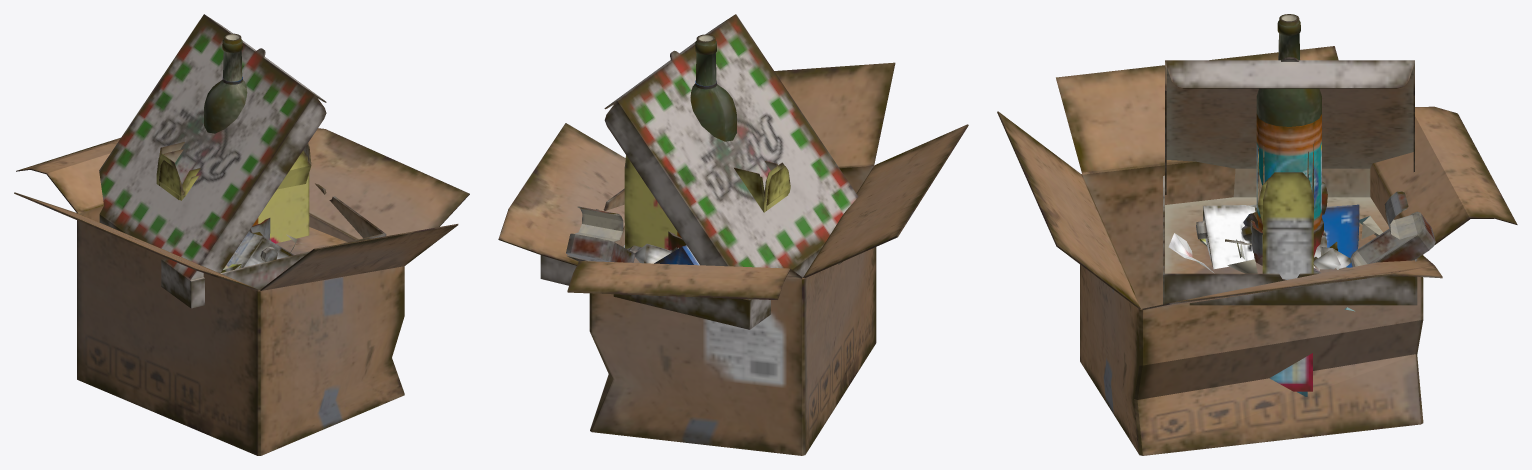
File: garbage_objs.glb
The picture shows the model from 3 angles, left to right: view 1: azimuth 30°, elevation 25°; view 2: azimuth 150°, elevation 25°; view 3: azimuth 270°, elevation 25°; orthographic projection. The views are drawn at different scales.
Parts seen in each view (by area): view 1: BOX, PIZZA_BOX, MUSELY, BOTTLE.001, CEREALS, MILK; view 2: BOX, PIZZA_BOX, MUSELY, BOTTLE.001, CEREALS, MILK, PAPER-4; view 3: BOX, PIZZA_BOX, MUSELY, MILK, BOTTLE, BOTTLE.001, PAPER-4, PAPER_3, CAN.
Boxes of the visible parts, box(x1,y1,x2,y2) form: BOX: box(14, 128, 469, 455); PIZZA_BOX: box(99, 14, 386, 308); MUSELY: box(156, 142, 309, 243); BOTTLE.001: box(204, 33, 247, 133); CEREALS: box(159, 143, 311, 200); MILK: box(226, 232, 294, 269); BOX: box(498, 62, 968, 455); PIZZA_BOX: box(540, 14, 858, 329); MUSELY: box(624, 155, 788, 249); BOTTLE.001: box(690, 34, 736, 141); CEREALS: box(760, 166, 790, 210); MILK: box(654, 245, 699, 265); PAPER-4: box(635, 243, 671, 263); BOX: box(997, 46, 1517, 455); PIZZA_BOX: box(1163, 57, 1435, 305); MUSELY: box(1262, 144, 1313, 391); MILK: box(1196, 204, 1359, 269); BOTTLE: box(1256, 114, 1321, 231); BOTTLE.001: box(1256, 14, 1321, 126); PAPER-4: box(1225, 204, 1350, 273); PAPER_3: box(1168, 216, 1382, 311); CAN: box(1250, 181, 1327, 258).
Size of the model in its own units: 1.16 by 0.9683 by 1.21.
Materials: 1 (1 with a texture image).
